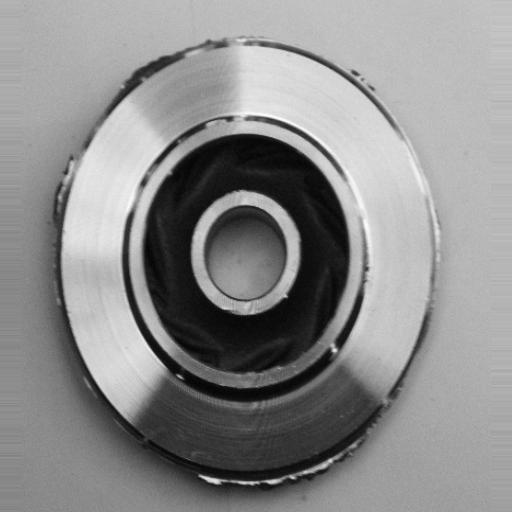casting_with_burr: (43, 30, 443, 490)
scratch: (338, 161, 378, 290), (180, 101, 268, 139), (314, 330, 355, 365)
